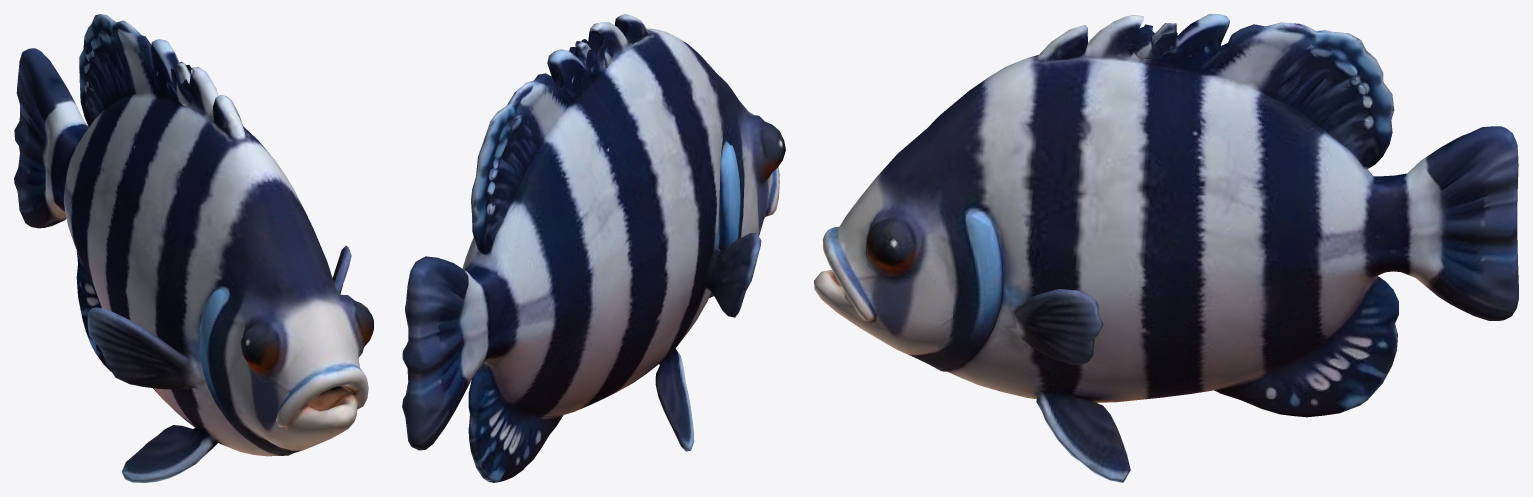
File: dolddom.glb
The picture shows the model from 3 angles, left to right: view 1: azimuth 30°, elevation 25°; view 2: azimuth 150°, elevation 25°; view 3: azimuth 270°, elevation 25°; orthographic projection. The views are drawn at different scales.
Parts seen in each view (by area): view 1: tripo_node_e1aa6bce-fc35-473f-9706-abb890f5b0f0; view 2: tripo_node_e1aa6bce-fc35-473f-9706-abb890f5b0f0; view 3: tripo_node_e1aa6bce-fc35-473f-9706-abb890f5b0f0.
Boxes of the visible parts, <box> form: tripo_node_e1aa6bce-fc35-473f-9706-abb890f5b0f0: <box>14,14,373,482</box>; tripo_node_e1aa6bce-fc35-473f-9706-abb890f5b0f0: <box>402,14,785,482</box>; tripo_node_e1aa6bce-fc35-473f-9706-abb890f5b0f0: <box>814,14,1518,482</box>.
Size of the model in its own units: 0.4648 by 0.6689 by 0.9996.
1 material, 1 textured.
